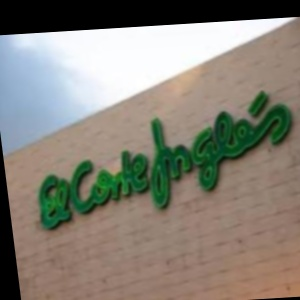corte_ingles: (37, 115, 300, 182)
